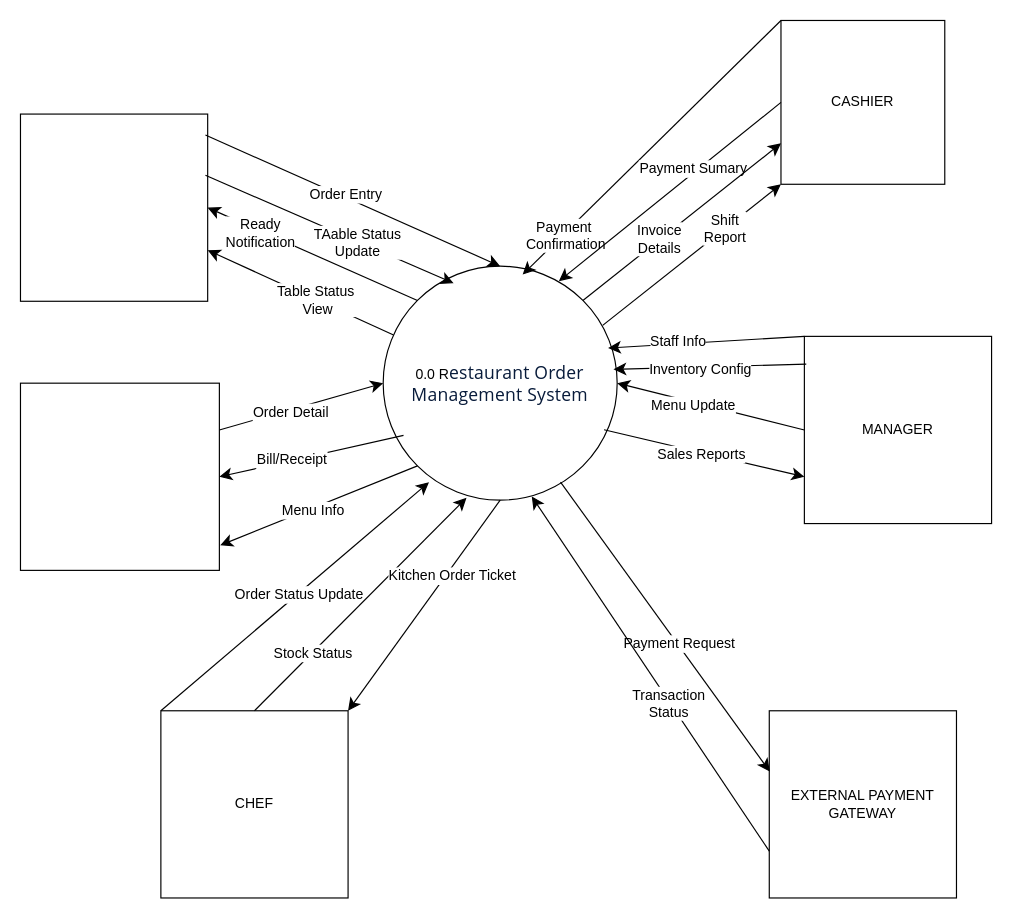
Image size: 1012x918. Some labels were removed from this diagram. Each missing label, with the box of its shape:
CUSTOMER: (19, 382, 219, 570)
WAITER: (19, 113, 208, 301)
